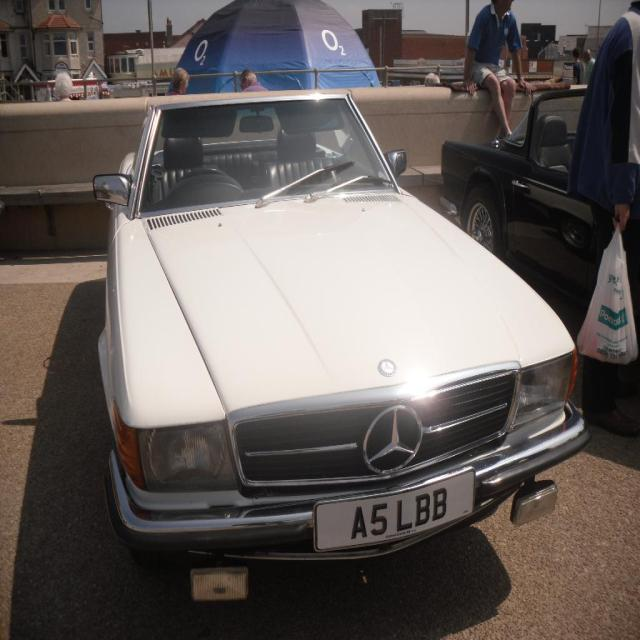car: (89, 85, 590, 604)
